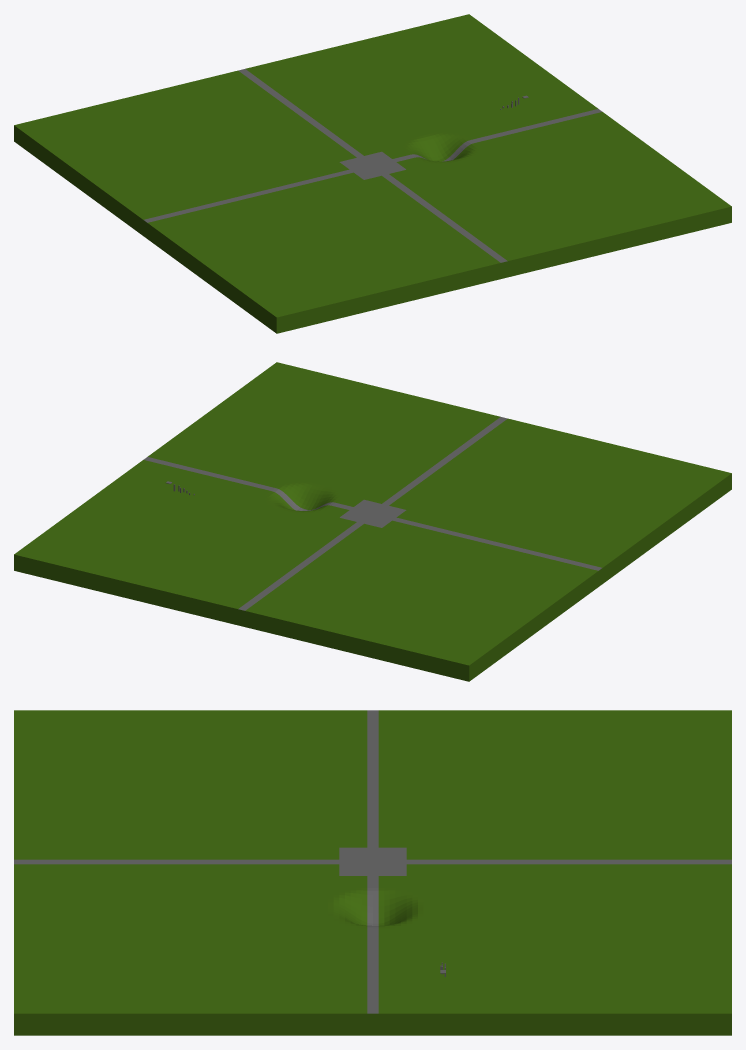
The model's file is grass.fbx.
The picture shows the model from 3 angles, top to bottom: view 1: azimuth 30°, elevation 25°; view 2: azimuth 150°, elevation 25°; view 3: azimuth 270°, elevation 25°; orthographic projection. The views are drawn at different scales.
Parts seen in each view (by area): view 1: Cube; view 2: Cube; view 3: Cube.
Part boxes in pixels (x1=…): Cube: x1=14, y1=14, x2=731, y2=333; Cube: x1=14, y1=362, x2=731, y2=681; Cube: x1=14, y1=710, x2=731, y2=1035.
Bounding box in the file's own units: 20000 × 963 × 20000.
